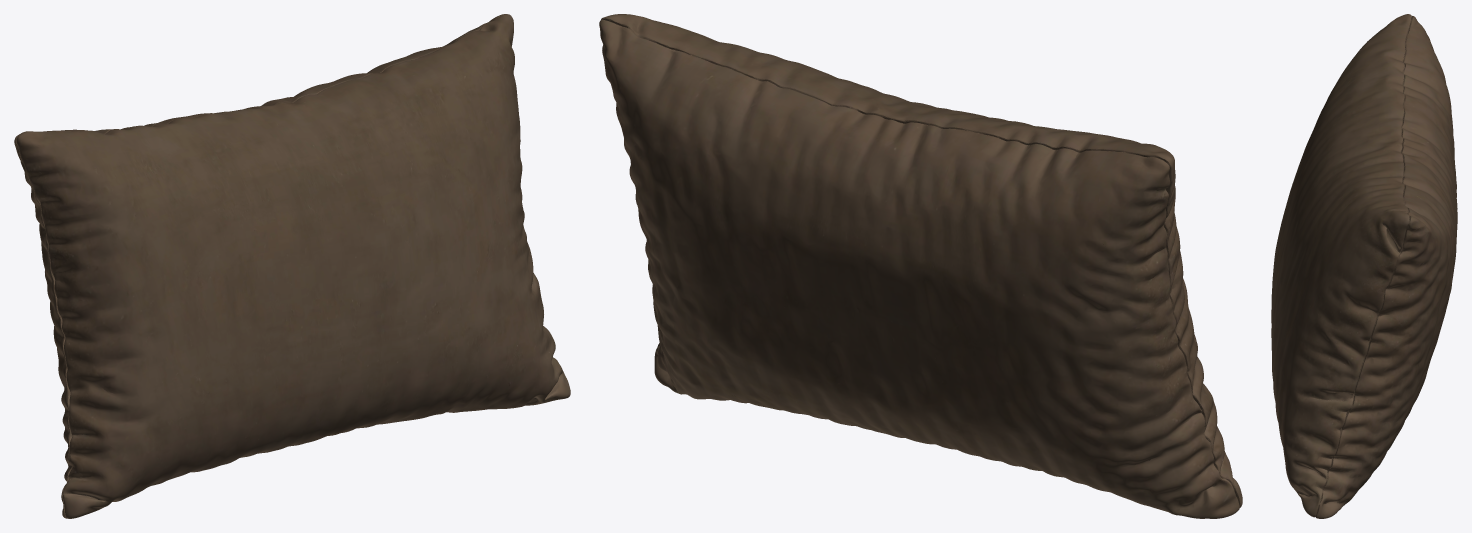
File: nova-chester-sirt-yastik.glb
3 views of the same model, side by side, from view 1: azimuth 30°, elevation 25°; view 2: azimuth 150°, elevation 25°; view 3: azimuth 270°, elevation 25° (orthographic). The views are drawn at different scales.
Visible parts, largest first — view 1: YASTIK1.001; view 2: YASTIK1.001; view 3: YASTIK1.001.
Boxes of the visible parts, x1=… form: YASTIK1.001: x1=14, y1=14, x2=570, y2=518; YASTIK1.001: x1=599, y1=14, x2=1242, y2=518; YASTIK1.001: x1=1271, y1=14, x2=1457, y2=518.
Size of the model in its own units: 0.5 by 0.3311 by 0.1847.
1 material, 1 textured.
